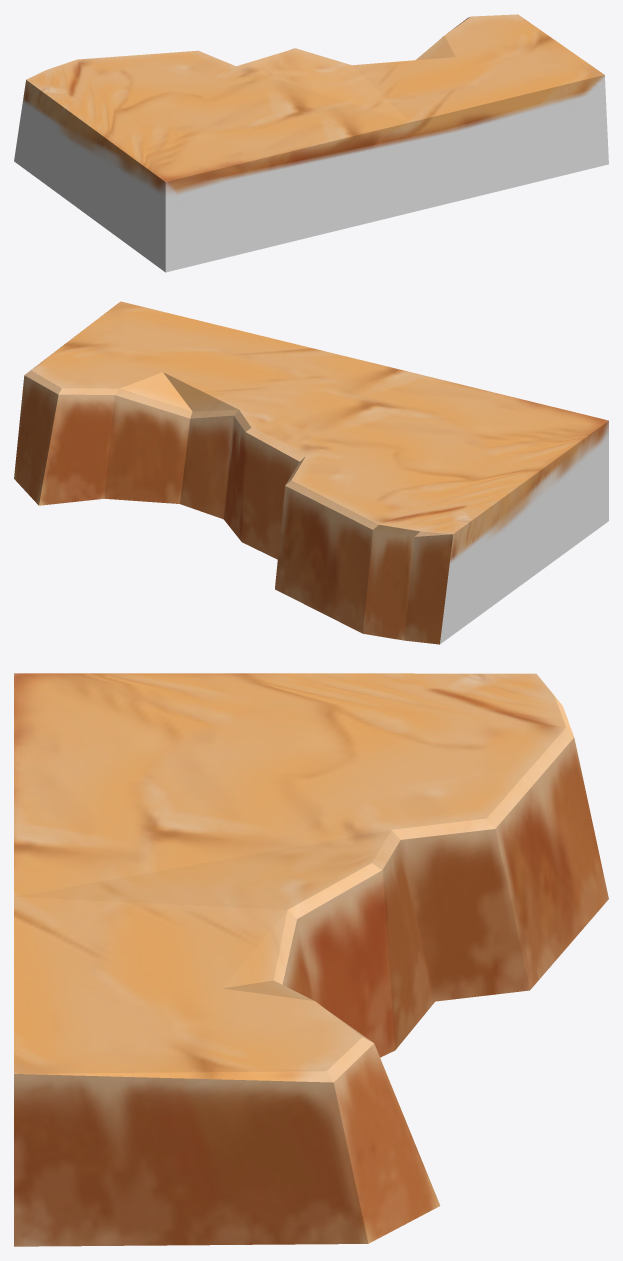
Rendered from land2.fbx.
3 views of the same model, one above another, from view 1: azimuth 30°, elevation 25°; view 2: azimuth 150°, elevation 25°; view 3: azimuth 270°, elevation 25° (orthographic). The views are drawn at different scales.
Parts seen in each view (by area): view 1: land2; view 2: land2; view 3: land2.
Boxes of the visible parts, box(x1,y1,x2,y2) form: land2: box(14, 14, 608, 272); land2: box(14, 301, 608, 644); land2: box(14, 673, 608, 1246).
Size of the model in its own units: 158 by 33.62 by 97.95.
